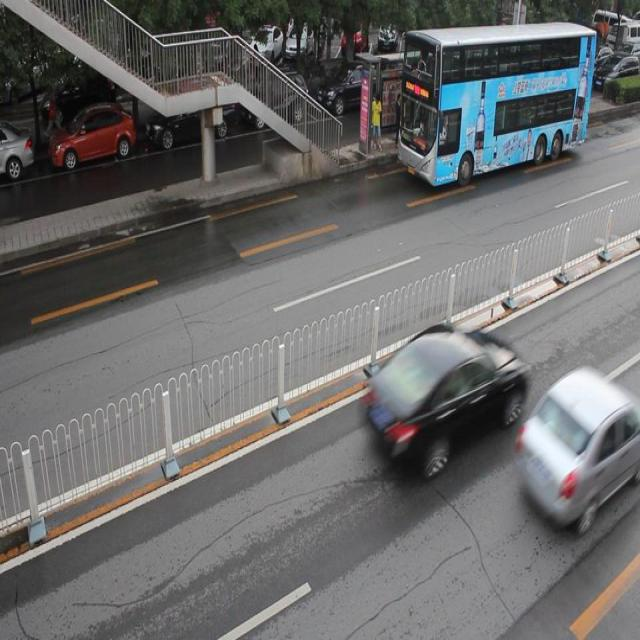car: (358, 322, 529, 479), (512, 362, 640, 535), (50, 105, 136, 172), (145, 93, 236, 151), (314, 62, 389, 123), (243, 72, 308, 129), (592, 53, 640, 98), (1, 124, 34, 181)
van: (394, 20, 596, 187)
